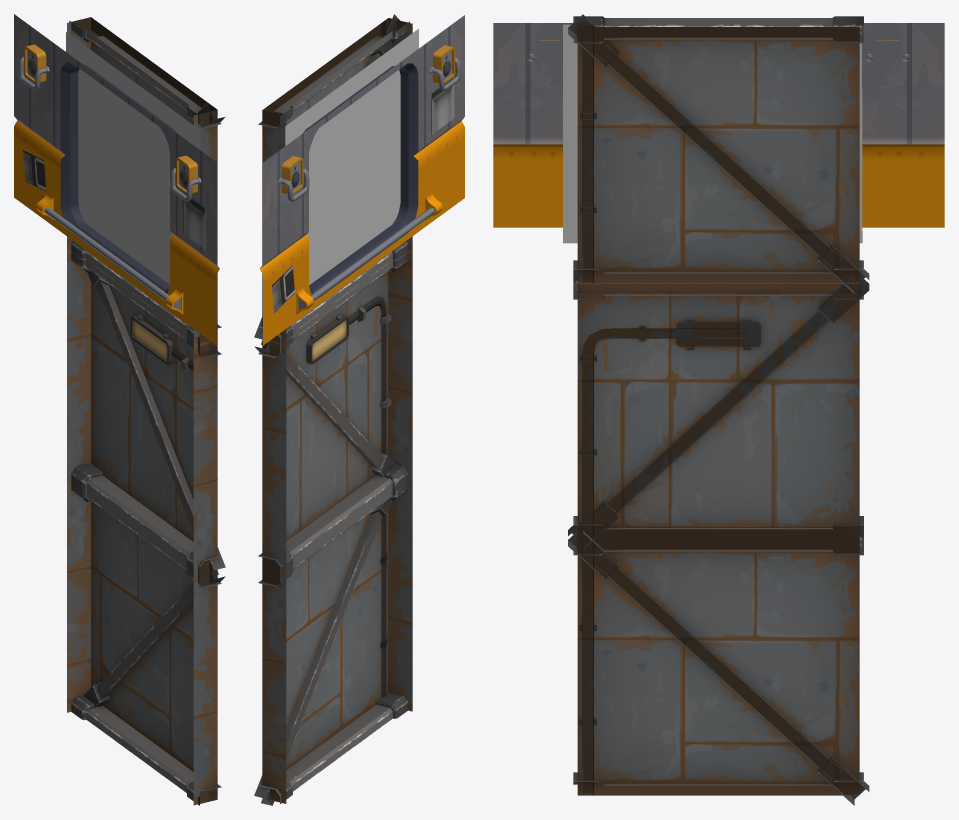
File: obj_building_elevatorwallright_bshape.fbx
3 renders of one model, left to right at view 1: azimuth 30°, elevation 25°; view 2: azimuth 150°, elevation 25°; view 3: azimuth 270°, elevation 25°, orthographic. The views are drawn at different scales.
Parts seen in each view (by area): view 1: obj_building_elevatorwallright_bshape; view 2: obj_building_elevatorwallright_bshape; view 3: obj_building_elevatorwallright_bshape.
Part boxes in pixels (bbox=[...]): obj_building_elevatorwallright_bshape: bbox=[14, 14, 225, 805]; obj_building_elevatorwallright_bshape: bbox=[254, 14, 464, 805]; obj_building_elevatorwallright_bshape: bbox=[493, 14, 944, 805].
Size of the model in its own units: 3.76 by 46.07 by 24.
